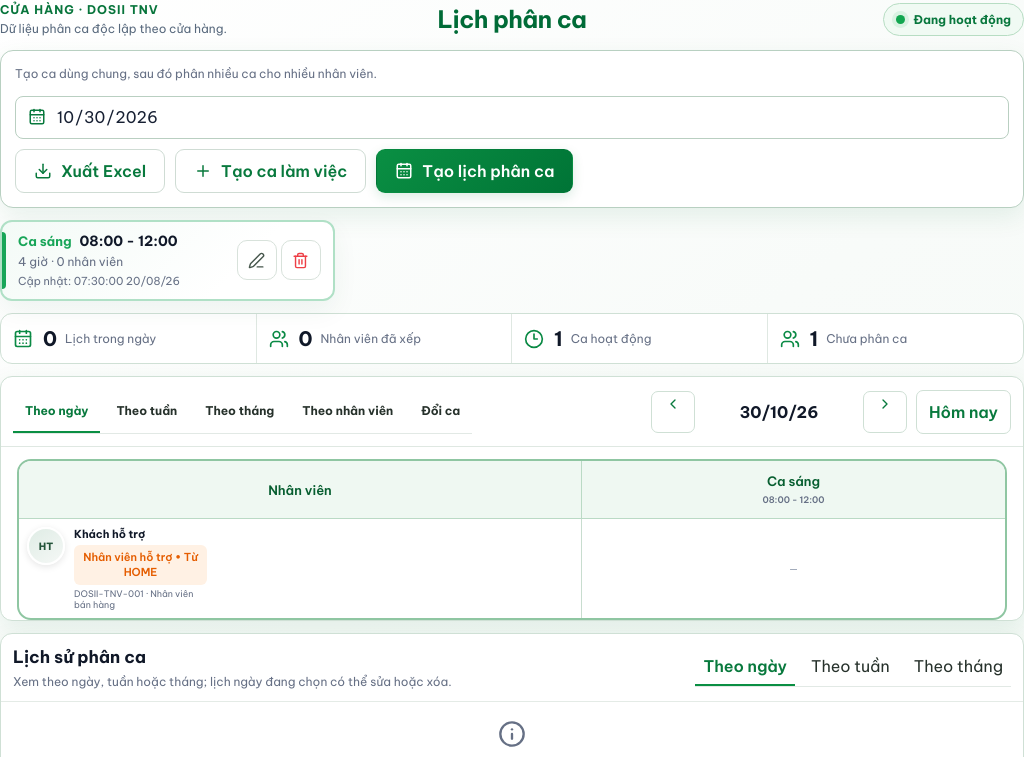
Test: store schedule visual flow › shows a future support roster employee and disables a conflicting home-store time
Click the button "Tạo lịch phân ca": (475, 171) x1=376 y1=149 x2=573 y2=193
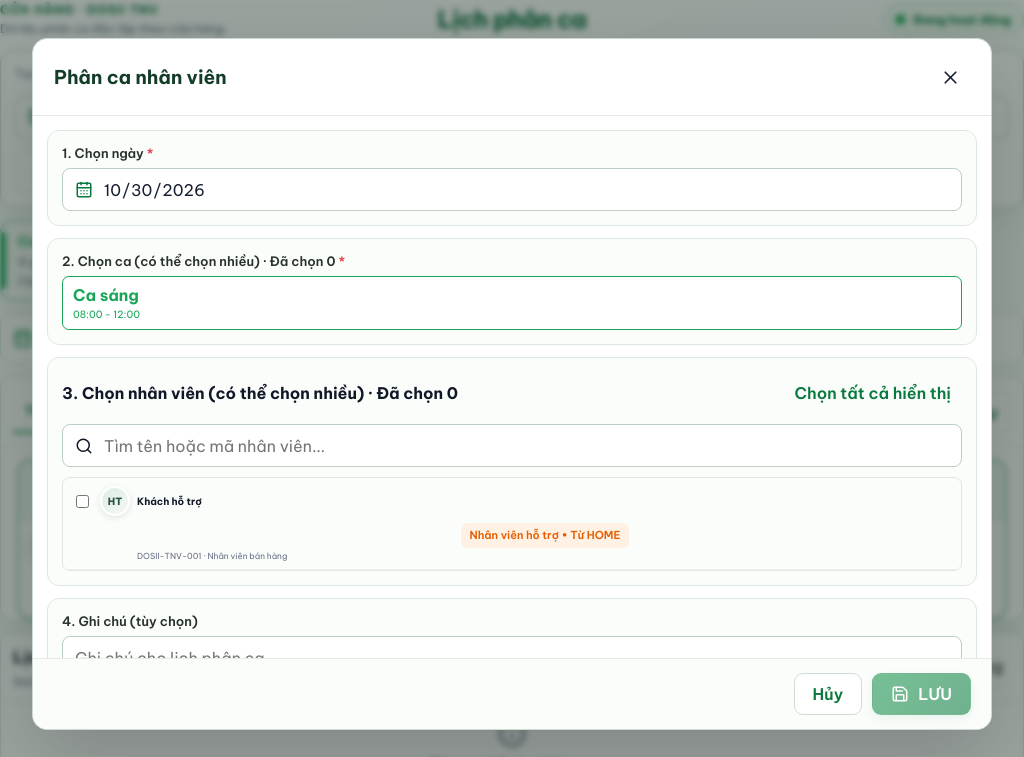
Click the button with aria-label "Chọn Ca sáng": (106, 295) x1=62 y1=276 x2=962 y2=330
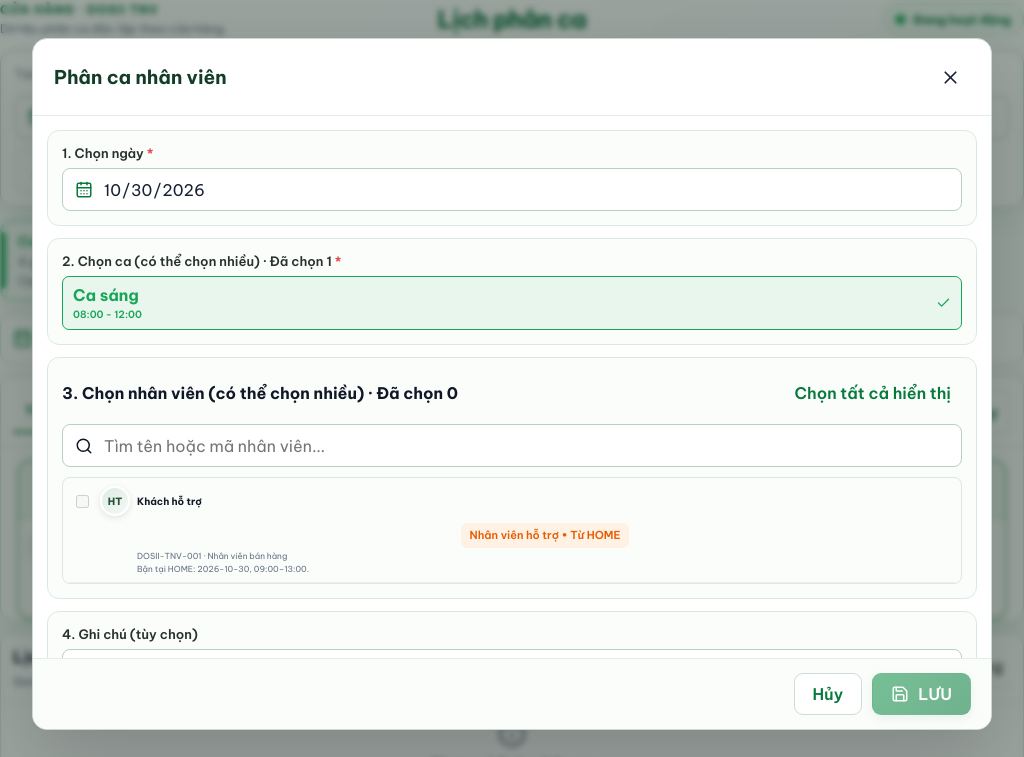
Expected: the text "Nhân viên hỗ trợ • Từ HOME" is shown, x1=461 y1=523 x2=629 y2=548
Expected: the checkbox named "Chọn nhân viên Khách hỗ trợ" is disabled, x1=75 y1=495 x2=90 y2=508
Expected: the text "Bận tại HOME: 2026-10-30, 09:00–13:00." is shown, x1=137 y1=564 x2=309 y2=574
